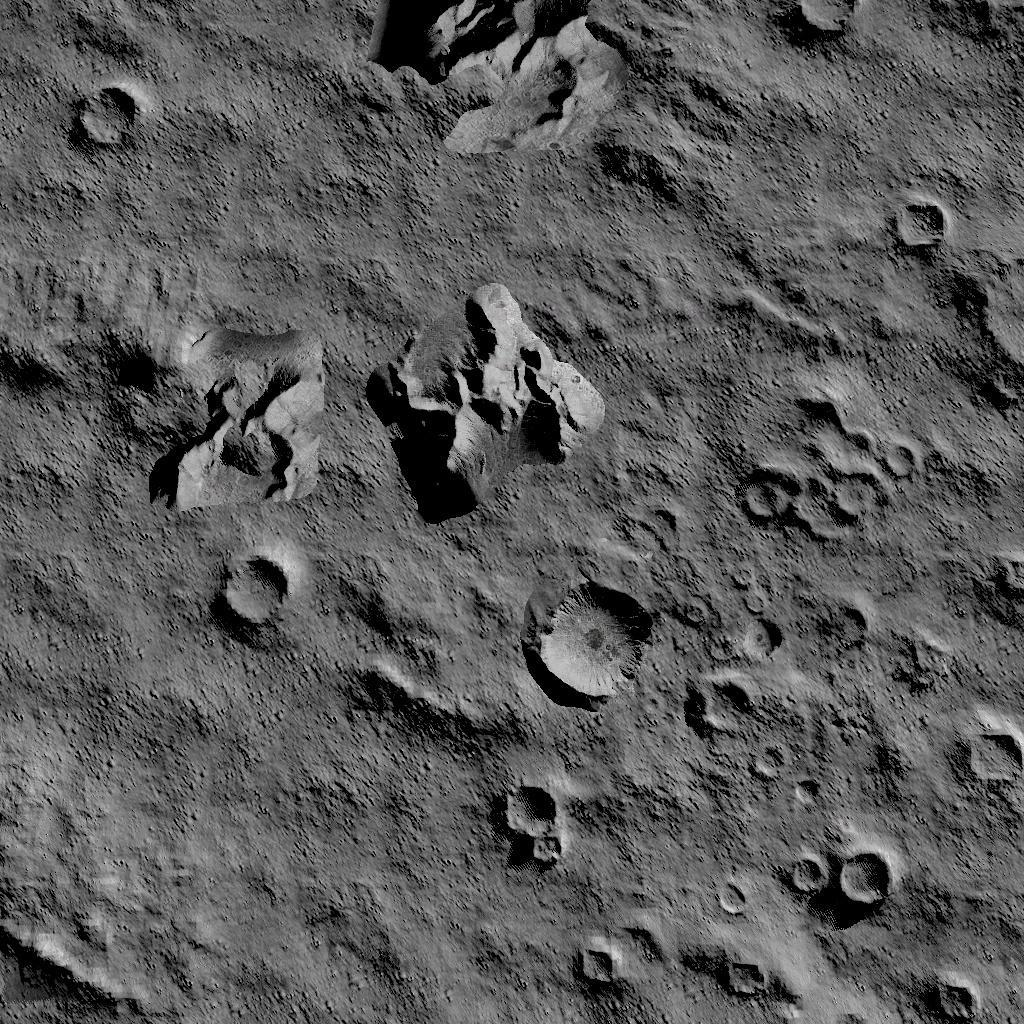Boulders: (368, 283, 607, 524), (363, 0, 639, 163), (104, 326, 317, 514)
Crater: (740, 398, 916, 545), (524, 583, 654, 708), (948, 264, 1024, 415), (210, 555, 288, 636), (787, 851, 893, 908), (493, 788, 565, 870), (66, 91, 142, 158), (680, 685, 754, 745), (952, 732, 1020, 793), (886, 199, 951, 254), (792, 0, 862, 50), (712, 957, 772, 1004), (922, 984, 980, 1024), (572, 946, 620, 994), (980, 554, 1024, 604), (733, 624, 778, 672), (714, 883, 756, 916), (738, 752, 781, 782), (782, 788, 814, 816)
Plan surface: (3, 752, 475, 968), (155, 0, 349, 312), (3, 536, 191, 744), (677, 82, 1024, 192)
